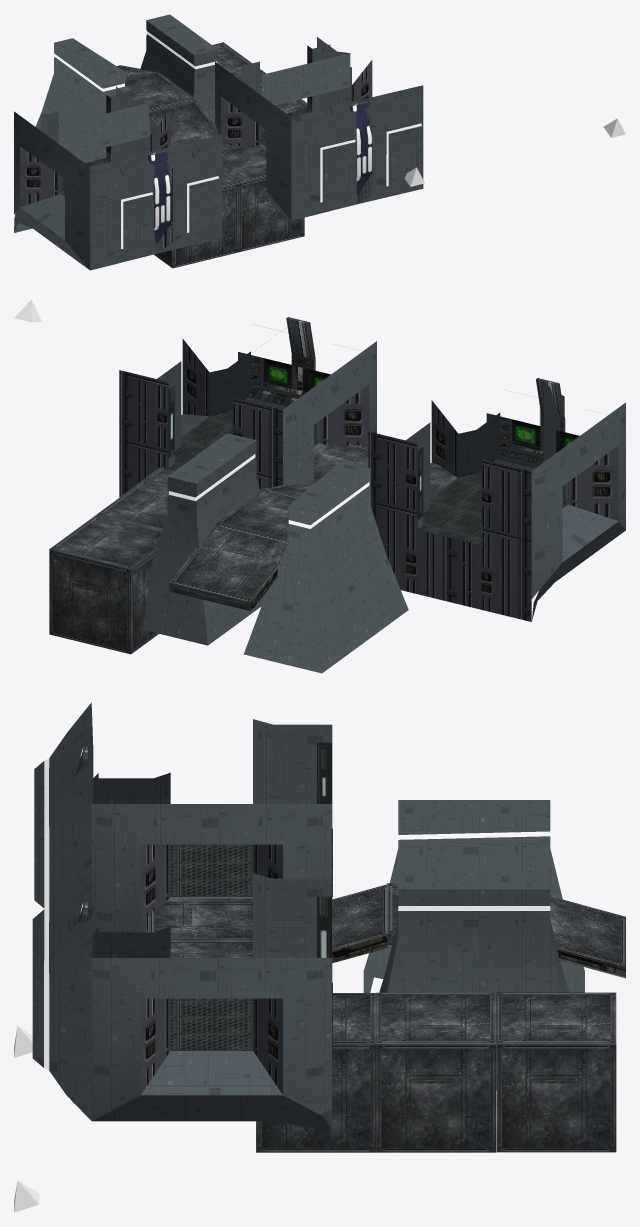
File: bldg_bunker.gltf
3 views of the same model, one above another, from view 1: azimuth 30°, elevation 25°; view 2: azimuth 150°, elevation 25°; view 3: azimuth 270°, elevation 25° (orthographic). The views are drawn at different scales.
Visible parts, largest first — view 1: polymsh17, polymsh19, polymsh_detached16, polymsh_detached18, polymsh21, polymsh_detached24, cube59, polymsh20, polymsh18, cube58, cube69, cube70 (+7 smaller); view 2: polymsh21, polymsh17, polymsh_detached24, cube66, polymsh_detached16, polymsh_detached18, cube71, polymsh18, polymsh19, entry2, polymsh20, polymsh_detached17 (+8 smaller); view 3: polymsh_detached17, polymsh19, polymsh_detached24, cube66, cube67, polymsh_detached15, polymsh21, cube68, polymsh17, polymsh_detached16, polymsh_detached18, cube71 (+8 smaller).
Part boxes in pixels (x1,y1,x2,y2): polymsh17: (14, 135, 222, 270); polymsh19: (259, 85, 423, 220); polymsh_detached16: (14, 111, 90, 270); polymsh_detached18: (215, 62, 291, 220); polymsh21: (35, 38, 125, 162); polymsh_detached24: (140, 14, 218, 123); cube59: (222, 145, 304, 252); polymsh20: (262, 53, 350, 146); polymsh18: (60, 103, 149, 196); cube58: (154, 171, 238, 268); cube69: (149, 100, 232, 149); cube70: (125, 71, 196, 111); polymsh21: (244, 461, 408, 673); polymsh17: (368, 383, 625, 621); polymsh_detached24: (143, 433, 266, 645); cube66: (49, 514, 162, 654); polymsh_detached16: (531, 402, 625, 598); polymsh_detached18: (283, 341, 376, 485); cube71: (169, 523, 287, 611); polymsh18: (395, 413, 579, 550); polymsh19: (119, 324, 362, 497); entry2: (369, 447, 531, 556); polymsh20: (146, 352, 330, 470); polymsh_detached17: (156, 339, 250, 464); polymsh_detached17: (91, 958, 331, 1120); polymsh19: (32, 856, 331, 1149); polymsh_detached24: (379, 871, 569, 1090); cube66: (496, 992, 616, 1152); cube67: (375, 992, 495, 1152); polymsh_detached15: (91, 804, 331, 932); polymsh21: (363, 800, 584, 992); cube68: (256, 993, 376, 1152); polymsh17: (34, 702, 252, 932); polymsh_detached16: (93, 719, 332, 833); polymsh_detached18: (93, 873, 332, 987); cube71: (550, 896, 625, 978).
Bounding box in the file's own units: 63.15 × 16.18 × 40.73.
17 materials, 17 textured.
